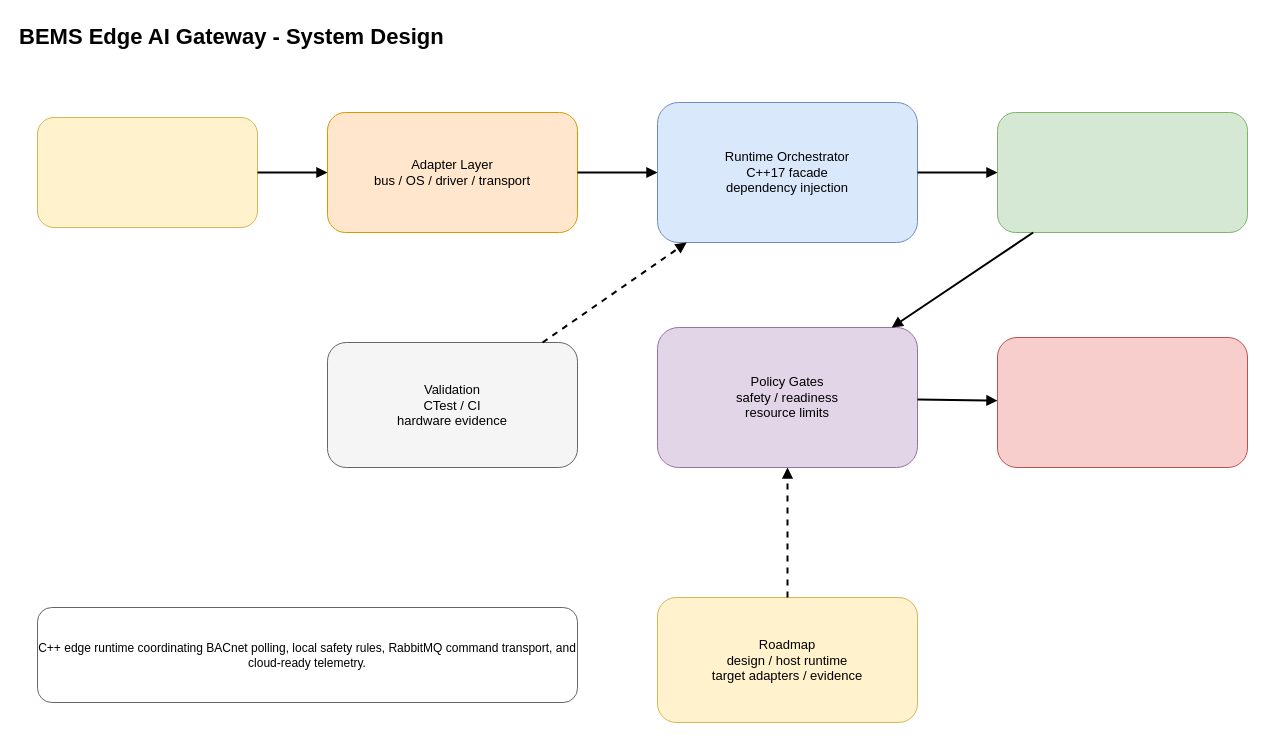
The diagram is 1265 pixels wide and 740 high, and some of its shapes have lost their labels. The centre of each missing label's shape, as x and y in pixels:
"Domain Model typed state project decision" goes at (x=1122, y=172).
"Evidence Outputs telemetry / logs / reports" goes at (x=1122, y=402).
"Input Sources hardware / simulator / commands" goes at (x=147, y=172).
